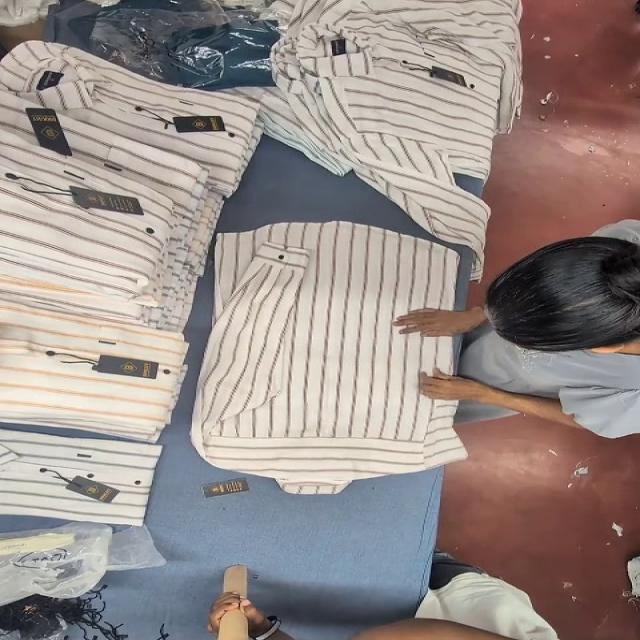new-garment: (192, 221, 464, 494)
